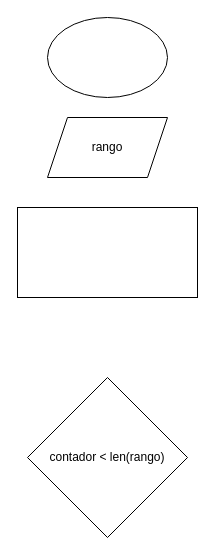
Image size: 215x555. Some labels were removed from this diagram. The shapes that lost their labels are listed below. From the top down, each one's centre as x and y in pixels, then its label:
At point (107, 57): "INICIO".
At point (107, 252): "contador = 0".
